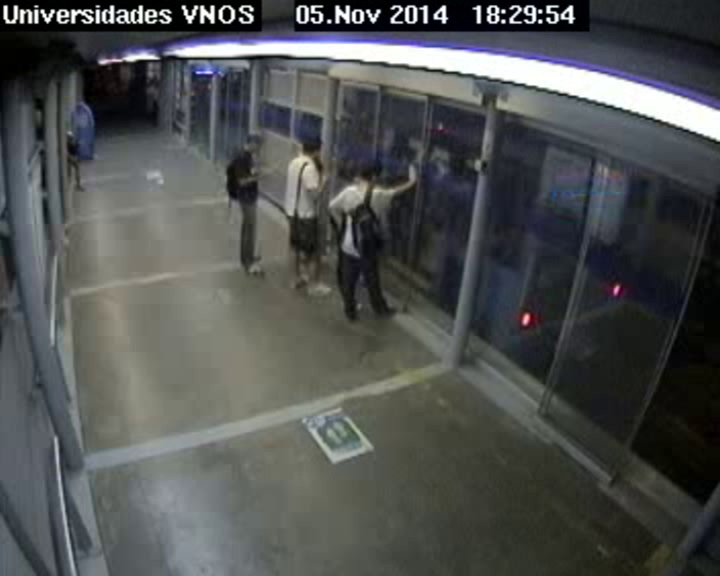person: (359, 158, 385, 185), (244, 131, 265, 153), (301, 135, 321, 157), (65, 130, 75, 142)
